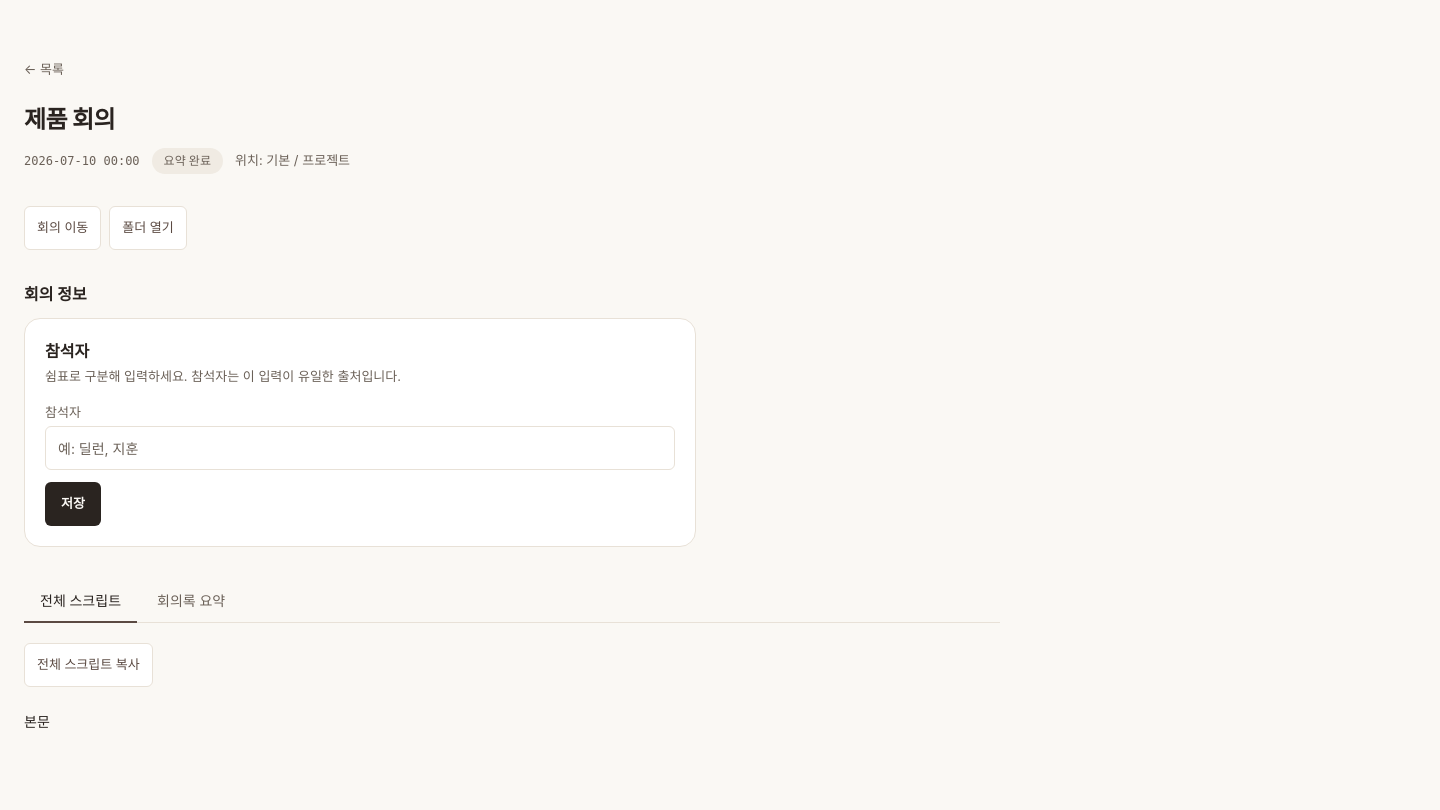
it: activated library navigation › refreshes an open detail when a new library generation replaces its source IDs
What coordinates should you click on to do the following:
click the button "회의 이동"
I would click on:
 (63, 228)
Its box is left=24, top=206, right=101, bottom=250.
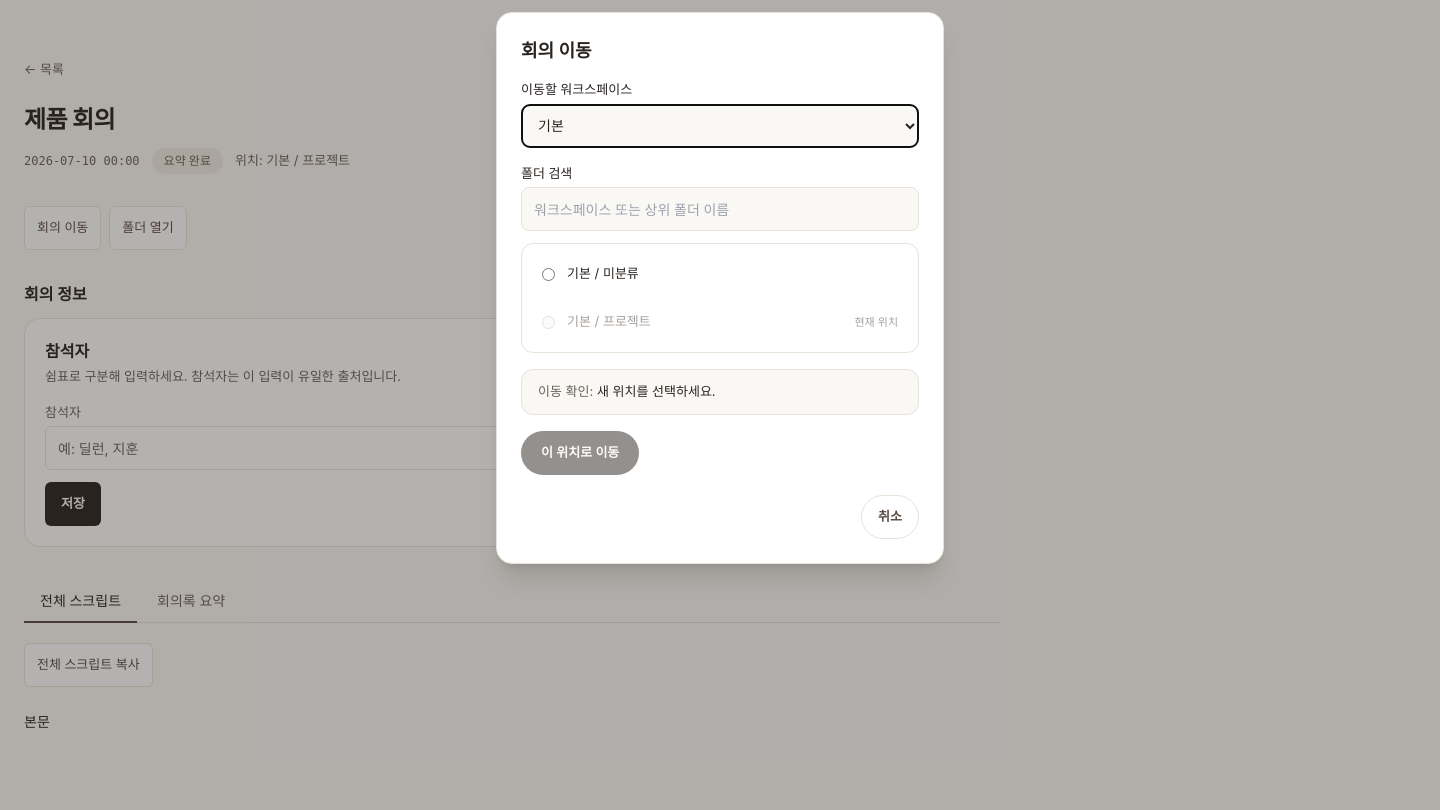
Now the dialog "회의 이동" is shown, box left=496, top=12, right=944, bottom=564
